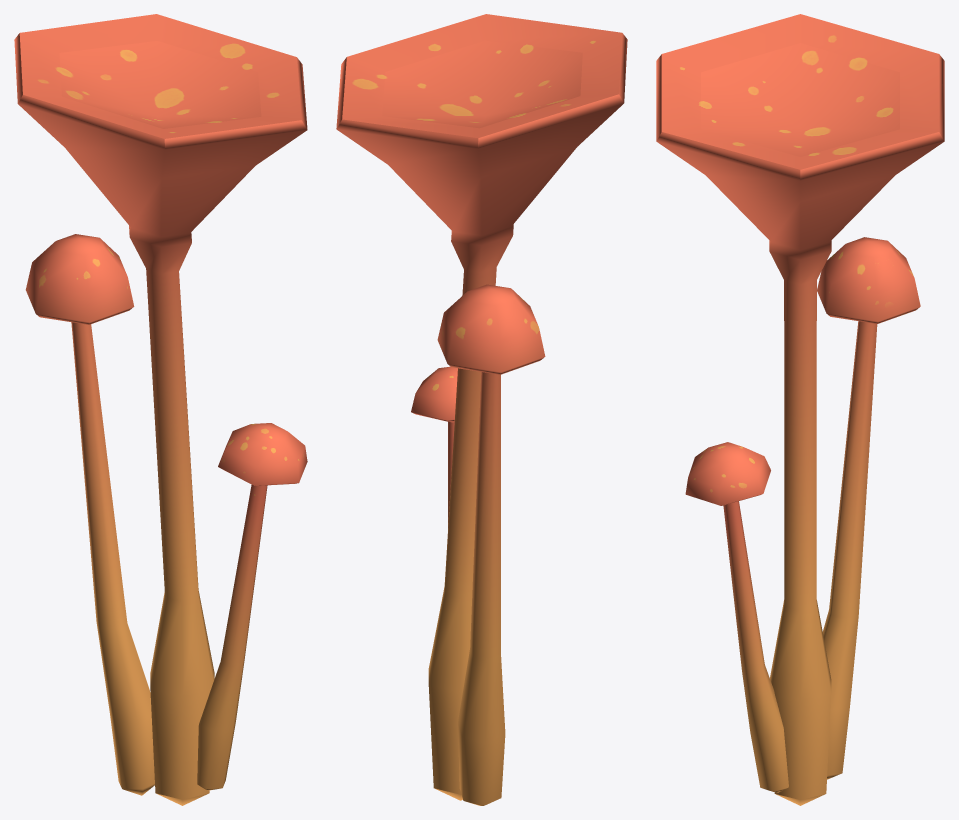
File: MushroomV2.fbx
3 views of the same model, side by side, from view 1: azimuth 30°, elevation 25°; view 2: azimuth 150°, elevation 25°; view 3: azimuth 270°, elevation 25° (orthographic). The views are drawn at different scales.
Visible parts, largest first — view 1: Mushroom_V2; view 2: Mushroom_V2; view 3: Mushroom_V2.
Part boxes in pixels (x1,y1,x2,y2): Mushroom_V2: (14, 14, 307, 805); Mushroom_V2: (336, 14, 627, 805); Mushroom_V2: (656, 14, 944, 805).
Bounding box in the file's own units: 1.26 × 3.18 × 1.16.
Materials: 1 (1 with a texture image).
